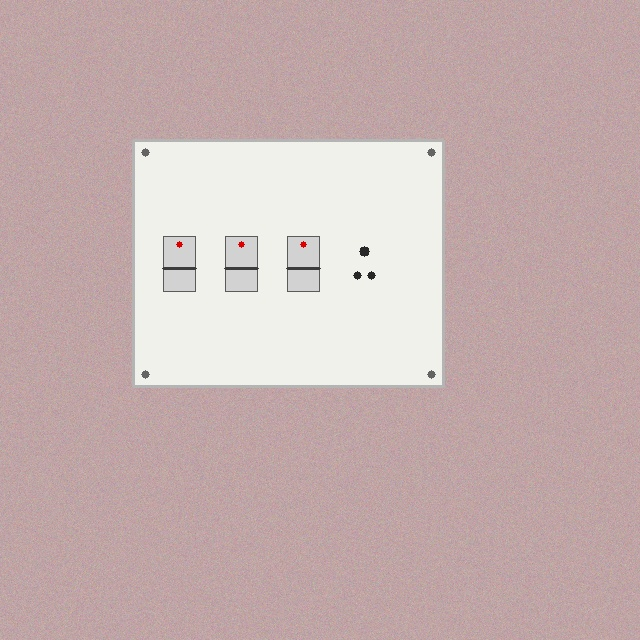switchboard: (133, 140, 443, 386)
